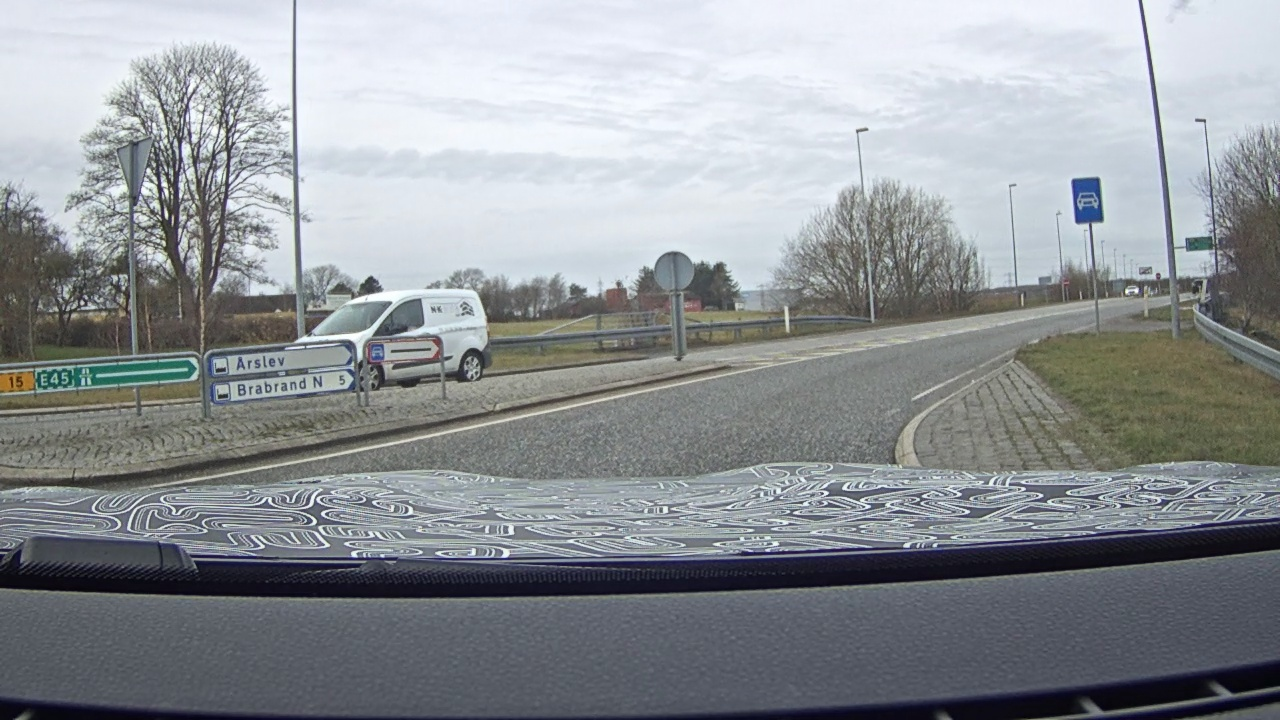Expressway_Begin: (1071, 177, 1104, 225)
